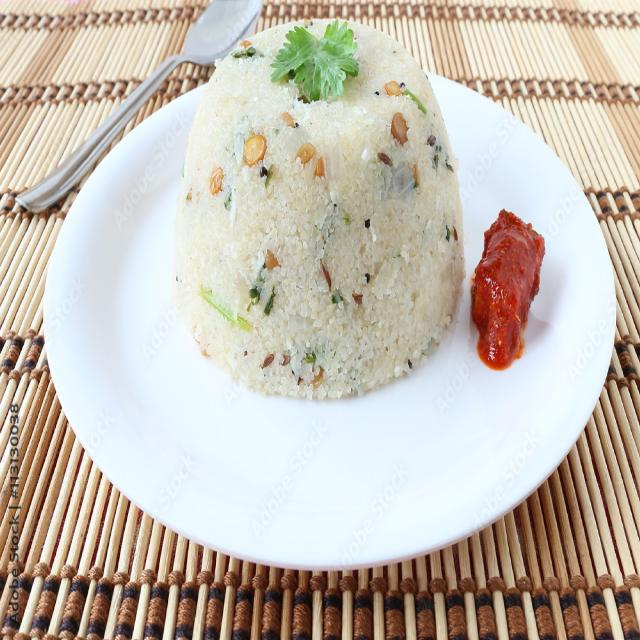UPMA: (176, 20, 463, 399)
